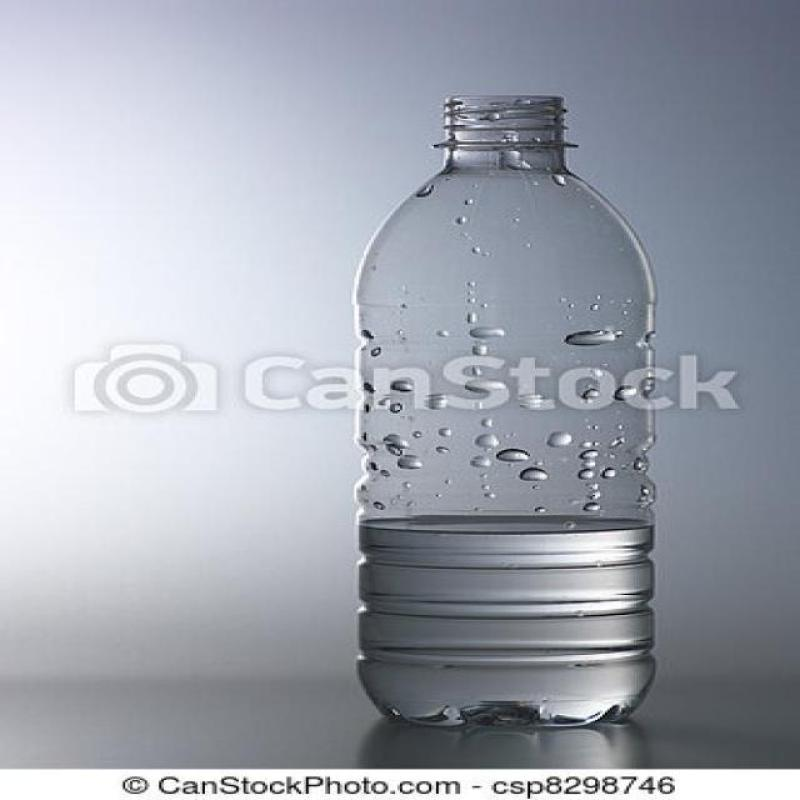botella: (353, 96, 657, 730)
